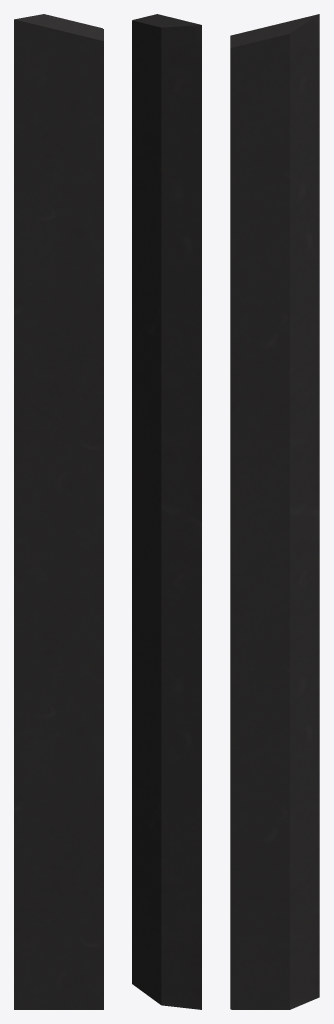
File: A13.1.1 H.WALL. PNL 5484 ICL.E.fbx
3 renders of one model, left to right at view 1: azimuth 90°, elevation 25°; view 2: azimuth 210°, elevation 25°; view 3: azimuth 270°, elevation 25°, orthographic.
Parts seen in each view (by area): view 1: Model; view 2: Model; view 3: Model.
Boxes of the visible parts, x1,y1,x2,y2 form: Model: (14,14,103,1009); Model: (132,14,201,1009); Model: (230,14,319,1009).
Size of the model in its own units: 150 by 5484 by 450.
